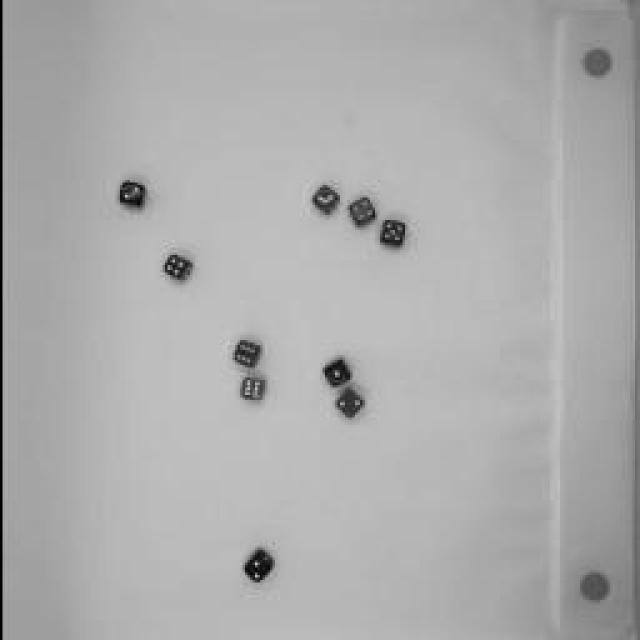dice_1: (318, 358, 352, 388)
dice_2: (239, 548, 271, 588), (330, 385, 365, 420), (308, 180, 342, 215), (114, 178, 144, 212)
dice_4: (158, 248, 192, 284), (343, 194, 375, 228)
dice_5: (372, 215, 408, 250)
dice_6: (226, 335, 262, 370), (235, 372, 265, 402)
